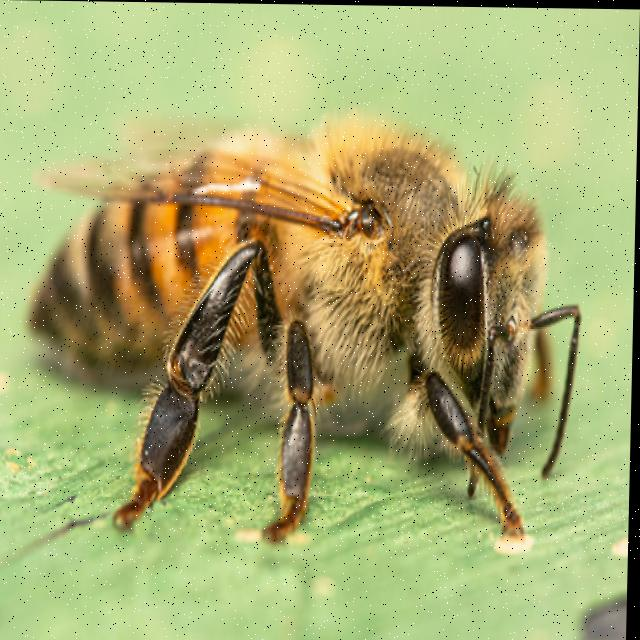Apis-mellifera-scutellata: (23, 60, 593, 552)
